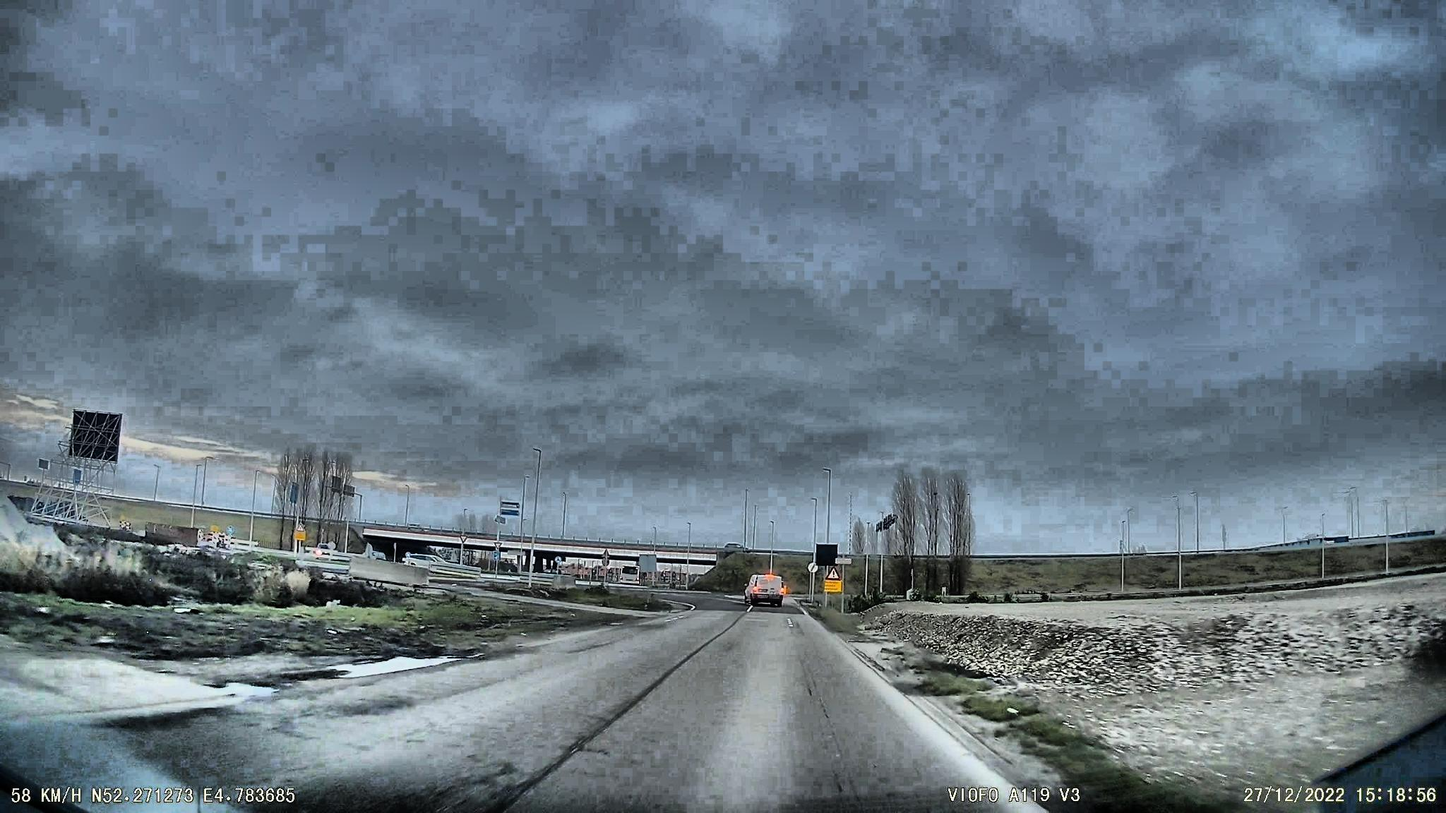Roads: (0, 609, 1102, 813)
